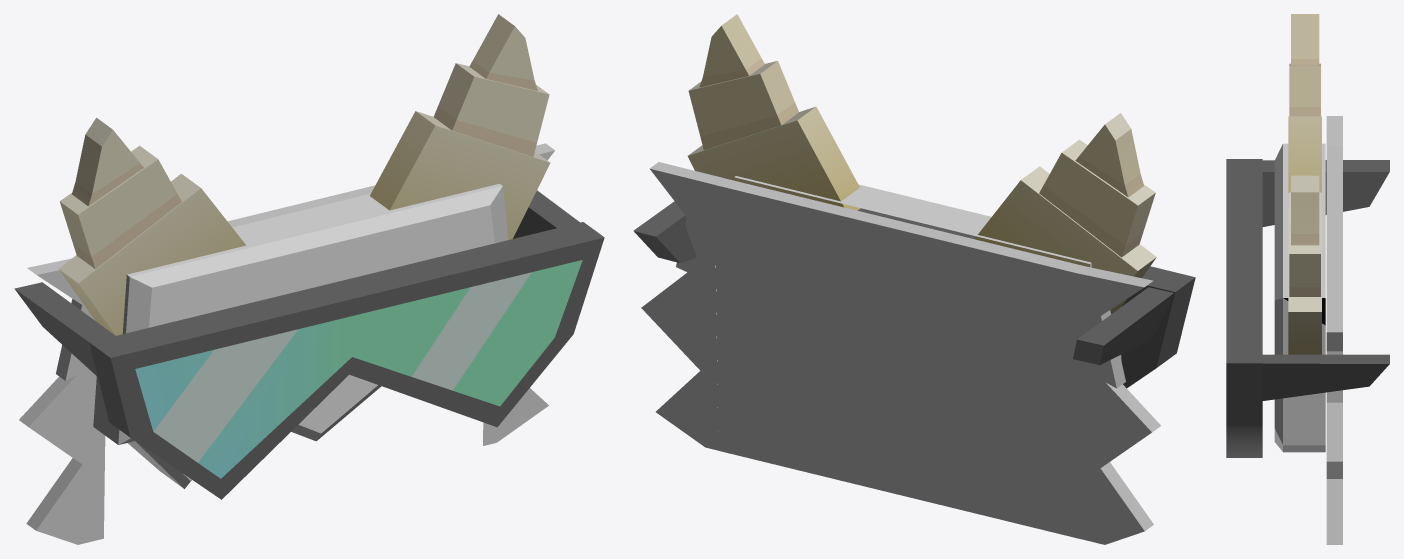
File: YetiSignBossTop.glb
The picture shows the model from 3 angles, left to right: view 1: azimuth 30°, elevation 25°; view 2: azimuth 150°, elevation 25°; view 3: azimuth 270°, elevation 25°; orthographic projection. The views are drawn at different scales.
Visible parts, largest first — view 1: YetiSignBossTop; view 2: YetiSignBossTop; view 3: YetiSignBossTop.
Part boxes in pixels (x1,y1,x2,y2): YetiSignBossTop: [14, 14, 604, 544]; YetiSignBossTop: [633, 14, 1195, 544]; YetiSignBossTop: [1226, 14, 1389, 544].
Bounding box in the file's own units: 1.78 × 1.37 × 0.5624.
